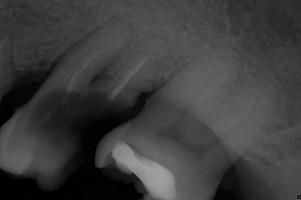Endo-Periodontal Lesion: (89, 71, 109, 87)
